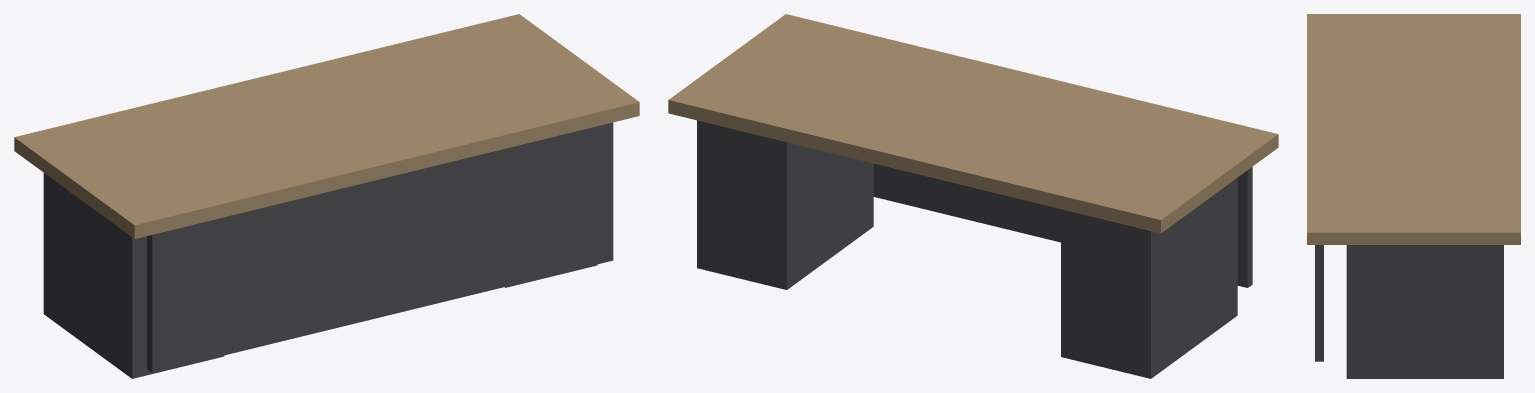
File: office-desk.glb
3 renders of one model, left to right at view 1: azimuth 30°, elevation 25°; view 2: azimuth 150°, elevation 25°; view 3: azimuth 270°, elevation 25°, orthographic. The views are drawn at different scales.
Visible parts, largest first — view 1: OfficeDesk; view 2: OfficeDesk; view 3: OfficeDesk.
Part boxes in pixels (x1,y1,x2,y2): OfficeDesk: (14, 14, 639, 378); OfficeDesk: (668, 14, 1278, 378); OfficeDesk: (1307, 14, 1520, 378).
Bounding box in the file's own units: 2.3 × 0.76 × 0.95.
